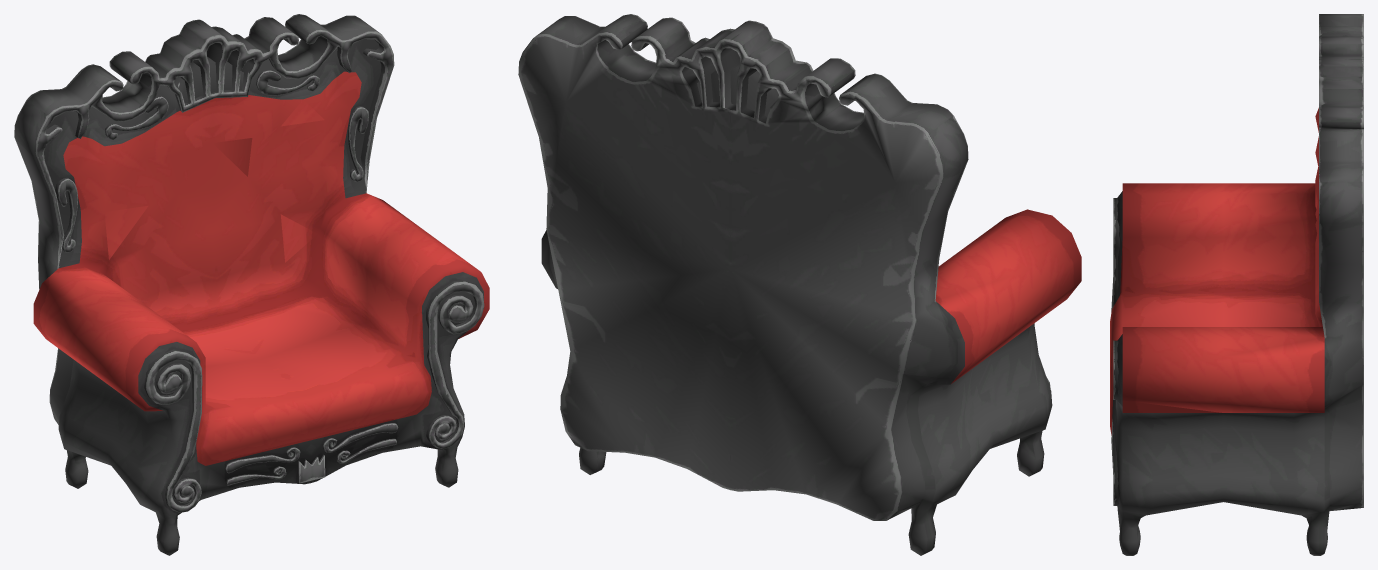
Rendered from Mafia_Throne.FBX.
3 views of the same model, side by side, from view 1: azimuth 30°, elevation 25°; view 2: azimuth 150°, elevation 25°; view 3: azimuth 270°, elevation 25° (orthographic). The views are drawn at different scales.
Visible parts, largest first — view 1: mafia_throne; view 2: mafia_throne; view 3: mafia_throne.
Part boxes in pixels (box(x1,y1,x2,y2)): mafia_throne: box(14, 14, 489, 555); mafia_throne: box(518, 14, 1081, 555); mafia_throne: box(1110, 14, 1363, 555).
Size of the model in its own units: 184 by 205 by 110.
